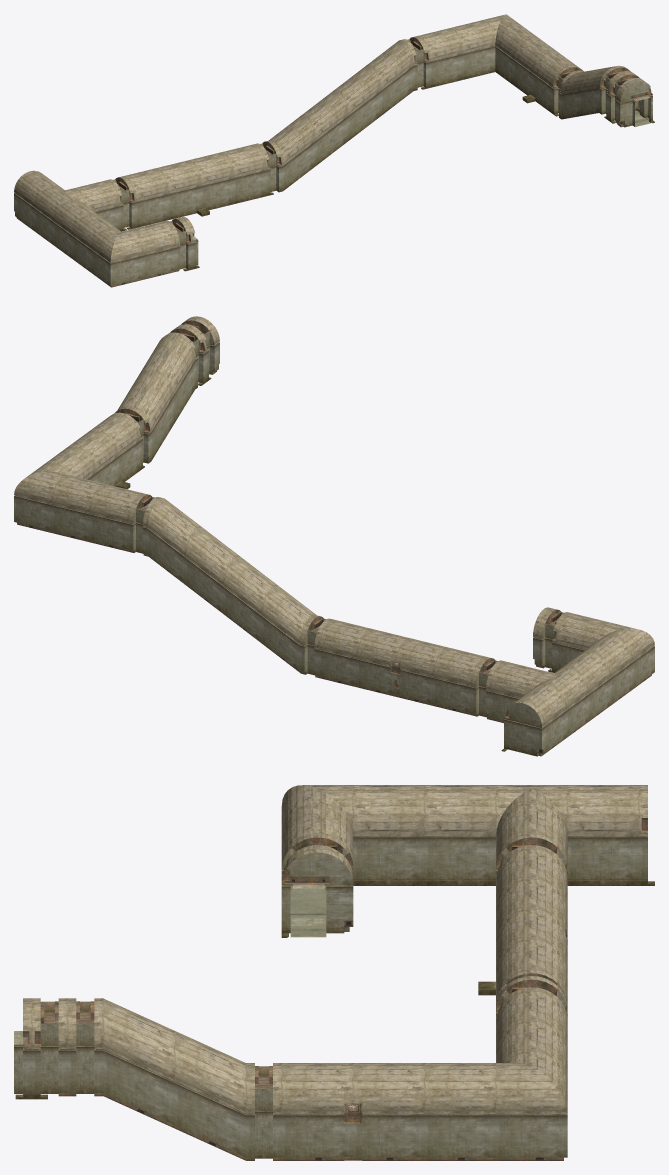
The model's file is poi_all_bunker_allum_mine_r20_hall20_mesh_r20.fbx.
The picture shows the model from 3 angles, top to bottom: view 1: azimuth 30°, elevation 25°; view 2: azimuth 150°, elevation 25°; view 3: azimuth 270°, elevation 25°; orthographic projection. The views are drawn at different scales.
Visible parts, largest first — view 1: mesh_node; view 2: mesh_node; view 3: mesh_node.
Part boxes in pixels (left/top/right/bottom): mesh_node: left=14, top=14, right=654, bottom=287; mesh_node: left=14, top=316, right=654, bottom=756; mesh_node: left=14, top=785, right=654, bottom=1160.
Bounding box in the file's own units: 58 × 17.1 × 35.9.
